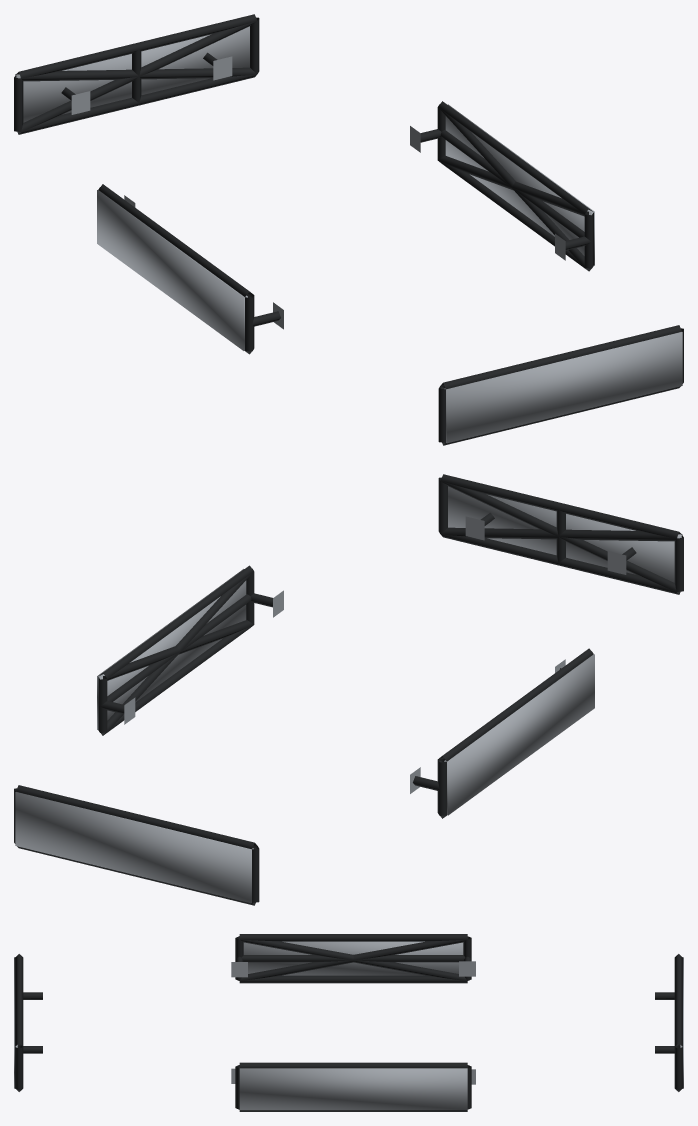
The model's file is vallon_sarga_protecao.glb.
3 renders of one model, top to bottom at view 1: azimuth 30°, elevation 25°; view 2: azimuth 150°, elevation 25°; view 3: azimuth 270°, elevation 25°, orthographic. The views are drawn at different scales.
Parts seen in each view (by area): view 1: Protection_front_Level3_Details, Protection_left_Level3_Details, Protection_rear_Level1_Details, Protection_rear_Level3_Details, Protection_right_Level1_Details, Protection_rear_Level2_Details, Protection_right_Level2_Details, Protection_right_Level3_Details, Protection_front_Level1_Details, Protection_left_Level1_Details; view 2: Protection_rear_Level3_Details, Protection_left_Level3_Details, Protection_front_Level1_Details, Protection_front_Level3_Details, Protection_right_Level1_Details, Protection_front_Level2_Details, Protection_right_Level2_Details, Protection_right_Level3_Details, Protection_rear_Level1_Details, Protection_left_Level1_Details; view 3: Protection_right_Level3_Details, Protection_left_Level1_Details, Protection_left_Level2_Details, Protection_left_Level3_Details, Protection_right_Level1_Details, Protection_rear_Level1_Details, Protection_front_Level1_Details.
Boxes of the visible parts, x1,y1,x2,y2 form: Protection_front_Level3_Details: (444,332,682,443); Protection_left_Level3_Details: (97,190,247,350); Protection_rear_Level1_Details: (14,14,259,134); Protection_rear_Level3_Details: (15,26,249,122); Protection_right_Level1_Details: (410,101,593,271); Protection_rear_Level2_Details: (16,21,256,133); Protection_right_Level2_Details: (438,108,592,270); Protection_right_Level3_Details: (445,104,594,265); Protection_front_Level1_Details: (438,325,683,445); Protection_left_Level1_Details: (98,184,283,354); Protection_rear_Level3_Details: (15,792,253,903); Protection_left_Level3_Details: (444,654,594,815); Protection_front_Level1_Details: (438,474,683,594); Protection_front_Level3_Details: (448,486,682,582); Protection_right_Level1_Details: (98,565,283,735); Protection_front_Level2_Details: (441,481,681,593); Protection_right_Level2_Details: (99,572,253,735); Protection_right_Level3_Details: (97,569,246,729); Protection_rear_Level1_Details: (14,785,259,905); Protection_left_Level1_Details: (410,648,593,818); Protection_right_Level3_Details: (239,1068,467,1110); Protection_left_Level1_Details: (231,934,475,983); Protection_left_Level2_Details: (239,937,467,980); Protection_left_Level3_Details: (243,941,463,975); Protection_right_Level1_Details: (231,1062,475,1111); Protection_rear_Level1_Details: (655,954,682,1091); Protection_front_Level1_Details: (15,954,42,1091).
Size of the model in its own units: 2.06 by 0.354 by 4.38.
Materials: 1 (1 with a texture image).
